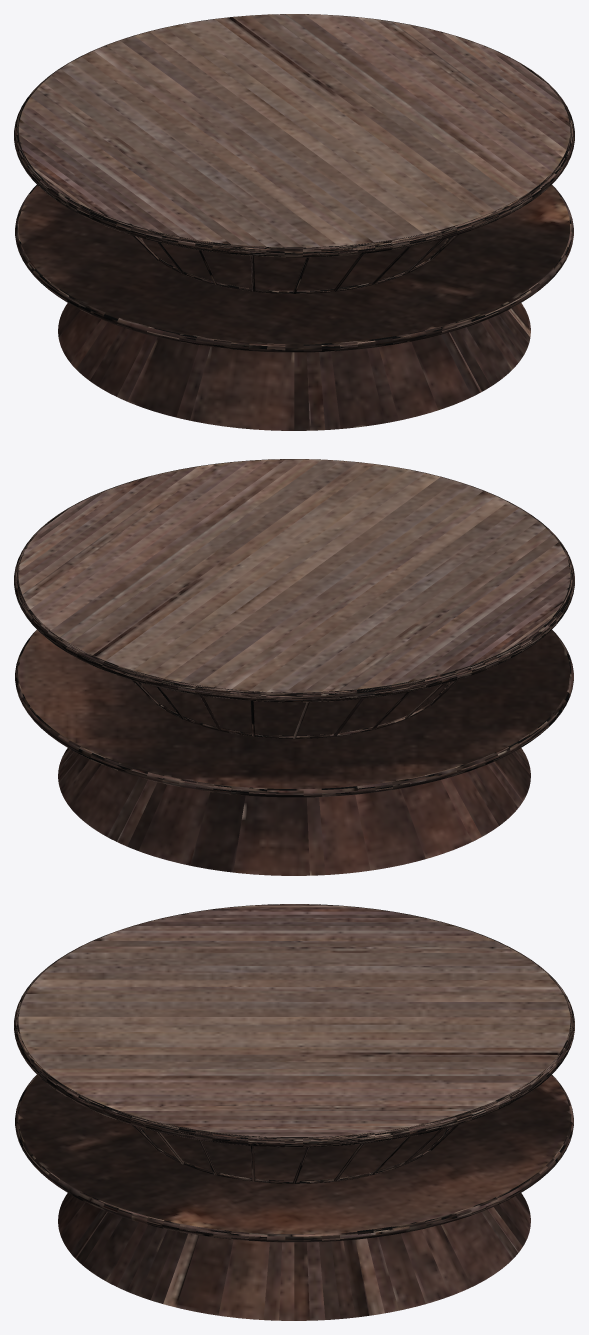
The picture shows the model from 3 angles, top to bottom: view 1: azimuth 30°, elevation 25°; view 2: azimuth 150°, elevation 25°; view 3: azimuth 270°, elevation 25°; orthographic projection.
Parts seen in each view (by area): view 1: Node; view 2: Node; view 3: Node.
Part boxes in pixels (x1=…): Node: x1=14, y1=14, x2=574, y2=430; Node: x1=14, y1=459, x2=574, y2=875; Node: x1=14, y1=904, x2=574, y2=1320.
Bounding box in the file's own units: 0.7 × 0.2756 × 0.7.
1 material, 1 textured.
